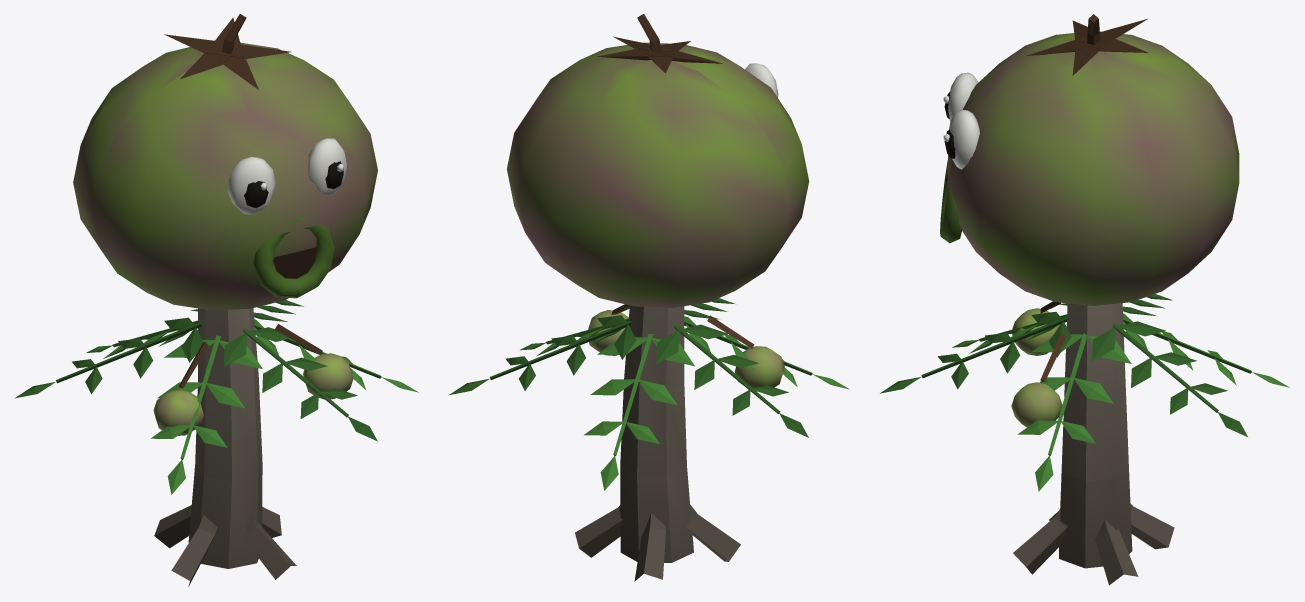
File: sau_shooter.glb
3 renders of one model, left to right at view 1: azimuth 30°, elevation 25°; view 2: azimuth 150°, elevation 25°; view 3: azimuth 270°, elevation 25°, orthographic. The views are drawn at different scales.
Parts seen in each view (by area): view 1: sau_head, sau_trunk; view 2: sau_head, sau_trunk; view 3: sau_head, sau_trunk.
Boxes of the visible parts, bbox=[...] form: sau_head: bbox=[73, 14, 377, 310]; sau_trunk: bbox=[15, 300, 418, 586]; sau_head: bbox=[507, 14, 809, 307]; sau_trunk: bbox=[449, 298, 849, 581]; sau_head: bbox=[940, 14, 1239, 305]; sau_trunk: bbox=[880, 294, 1289, 585].
Size of the model in its own units: 0.7941 by 1.19 by 0.7992.
